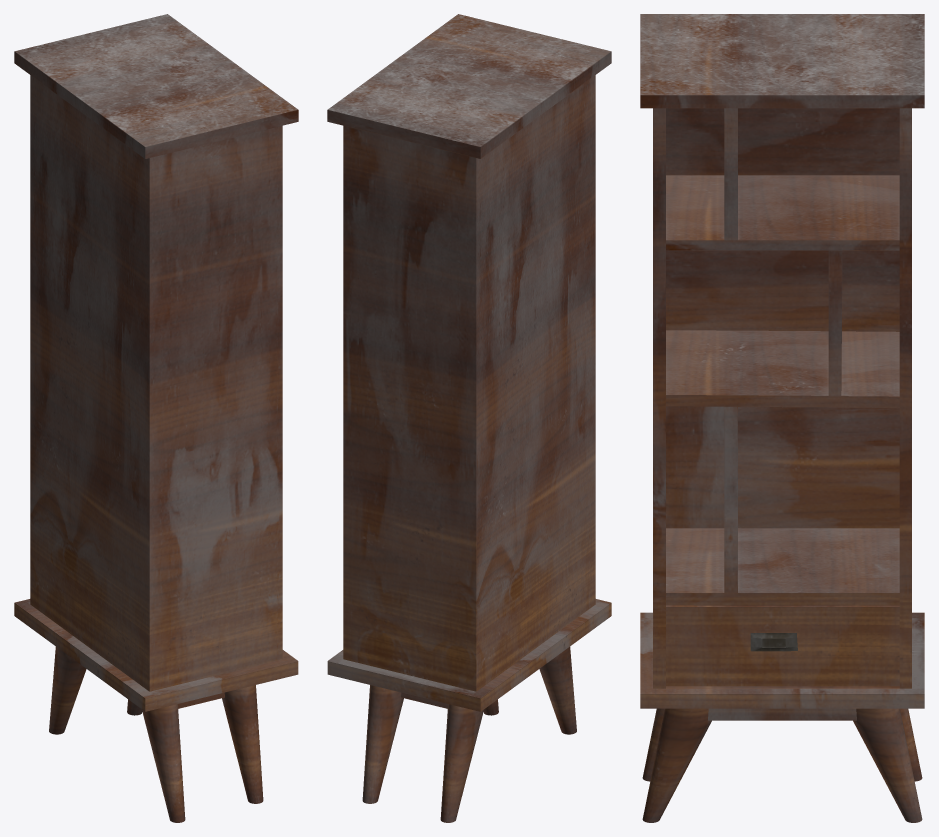
Rendered from mid-century_modern_bookcase.glb.
3 views of the same model, side by side, from view 1: azimuth 30°, elevation 25°; view 2: azimuth 150°, elevation 25°; view 3: azimuth 270°, elevation 25° (orthographic). The views are drawn at different scales.
Visible parts, largest first — view 1: MiddleCenturyModernBookcase; view 2: MiddleCenturyModernBookcase; view 3: MiddleCenturyModernBookcase.
Part boxes in pixels (x1,y1,x2,y2): MiddleCenturyModernBookcase: (14, 14, 298, 822); MiddleCenturyModernBookcase: (327, 14, 611, 822); MiddleCenturyModernBookcase: (640, 14, 924, 822).
Bounding box in the file's own units: 0.4066 × 1.74 × 0.6017.
Materials: 1 (1 with a texture image).
